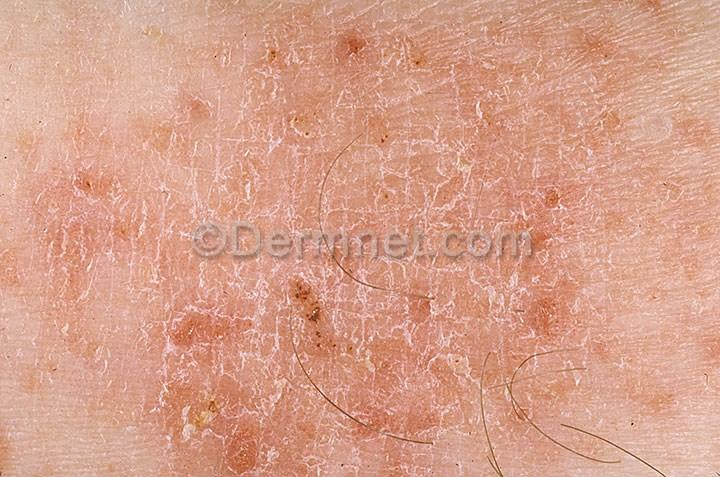Eczema: (105, 324, 244, 477), (300, 17, 435, 134), (38, 165, 114, 235), (270, 279, 342, 346)
